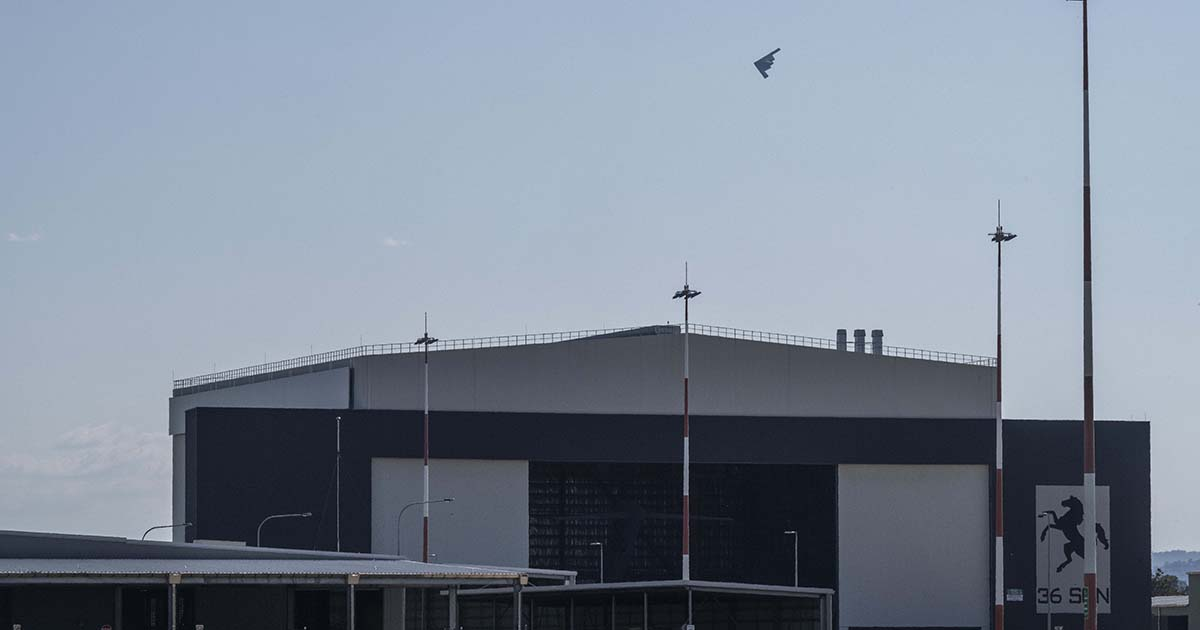B2: (752, 47, 782, 79)
